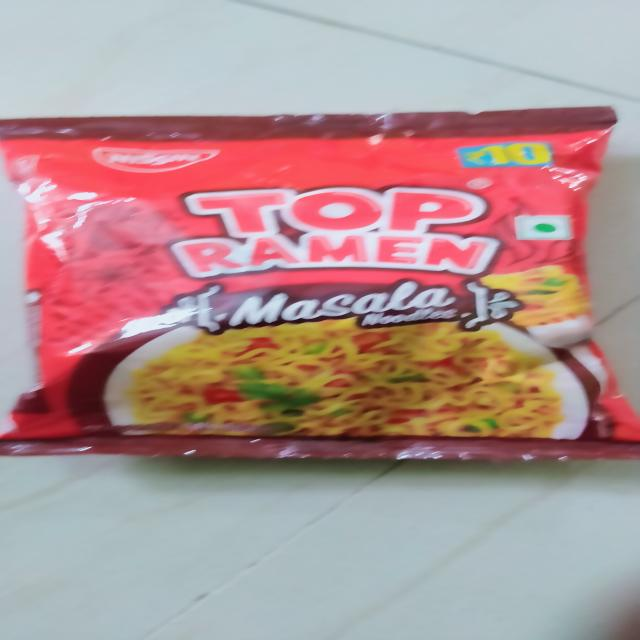maggi: (0, 110, 640, 462)
